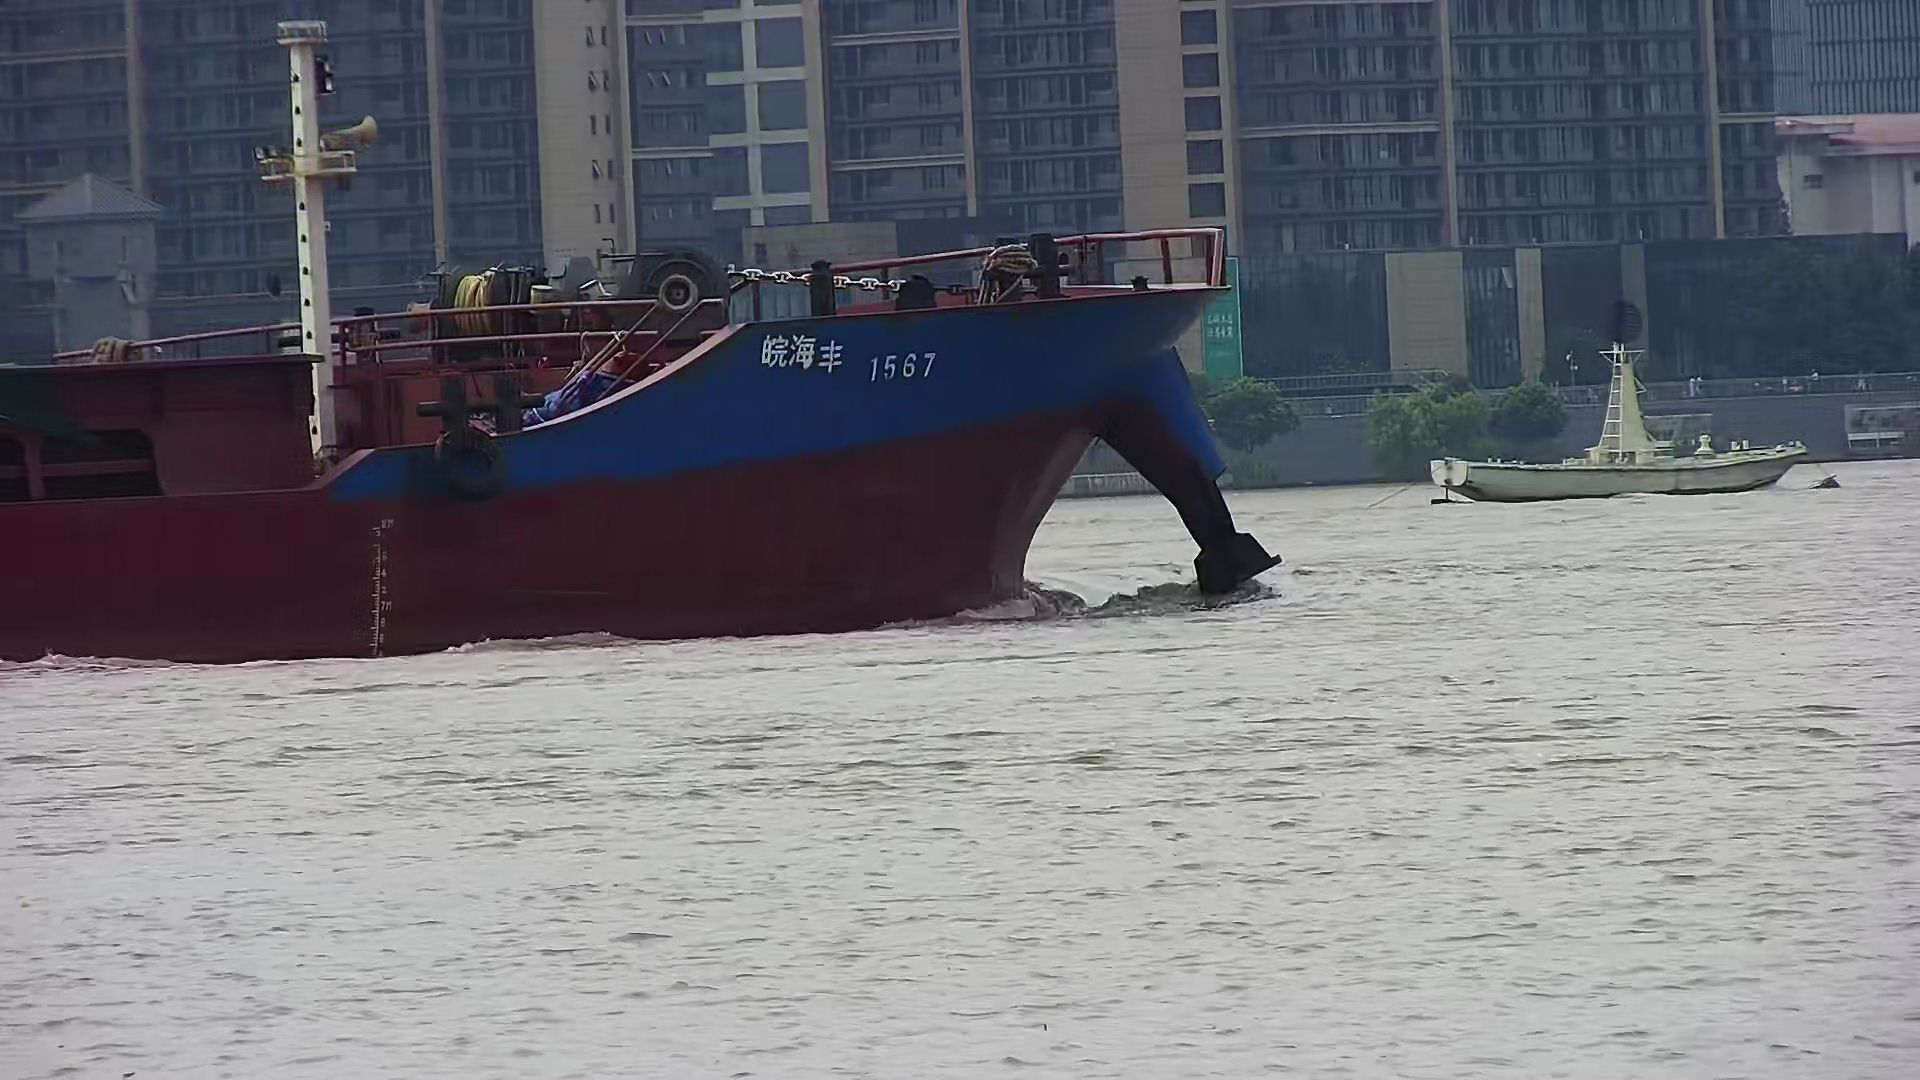boat: (1425, 324, 1825, 504)
ship: (3, 13, 1357, 666)
